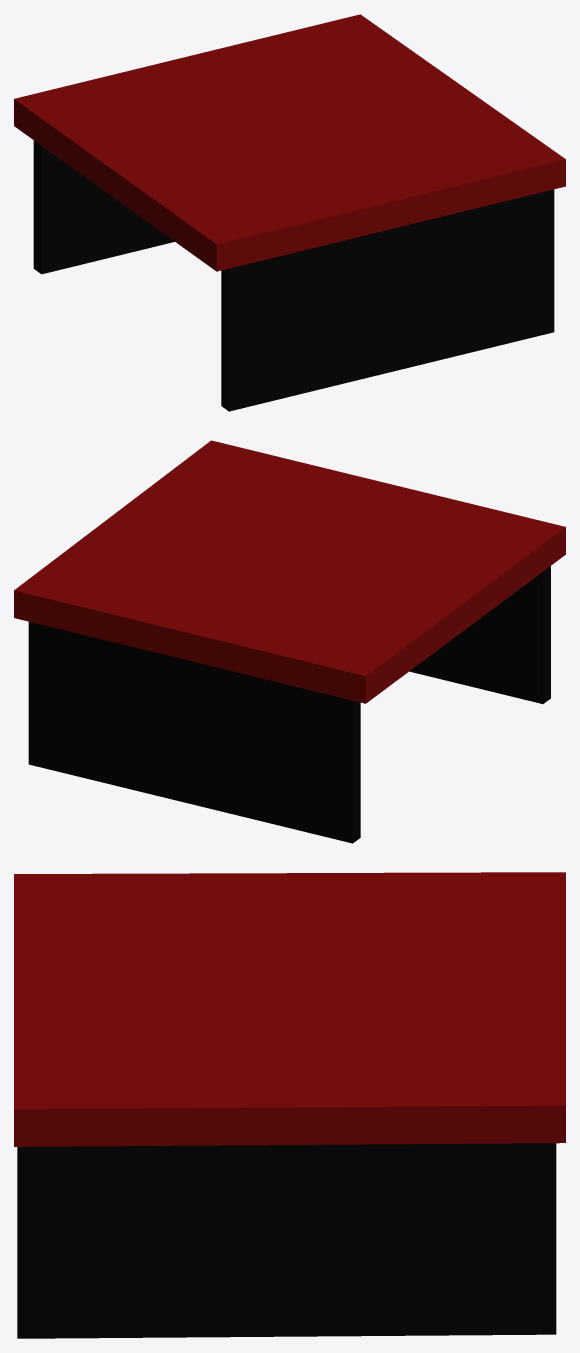
The model's file is House3.FBX.
The picture shows the model from 3 angles, top to bottom: view 1: azimuth 30°, elevation 25°; view 2: azimuth 150°, elevation 25°; view 3: azimuth 270°, elevation 25°; orthographic projection. The views are drawn at different scales.
Parts seen in each view (by area): view 1: House3; view 2: House3; view 3: House3.
Part boxes in pixels (x1,y1,x2,y2): House3: [14, 14, 565, 411]; House3: [14, 440, 565, 843]; House3: [14, 872, 565, 1338].
Bounding box in the file's own units: 949 × 933 × 441.
